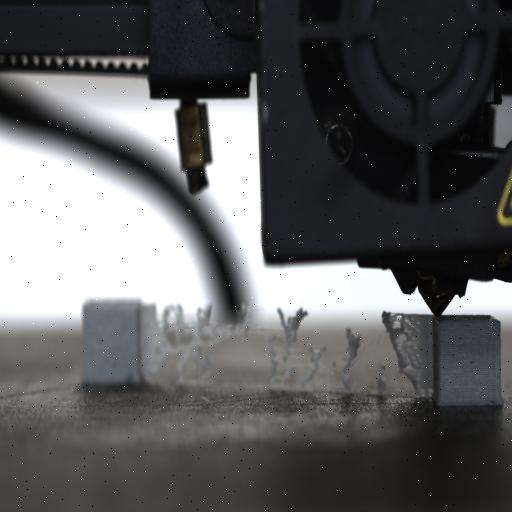stringing: (268, 308, 394, 394), (154, 300, 254, 386)
